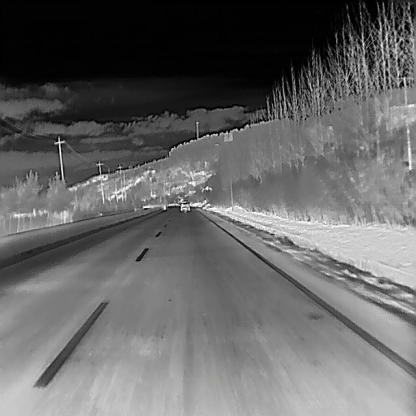car: (179, 199, 190, 211)
